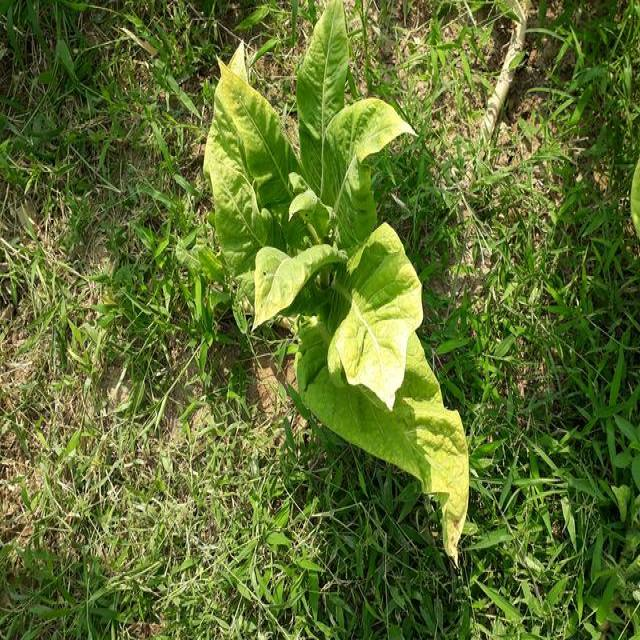crop: (208, 31, 466, 541)
